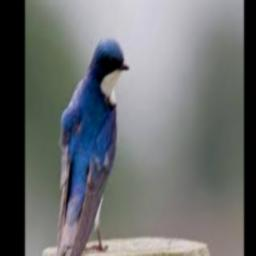Swallow: (57, 38, 128, 256)
